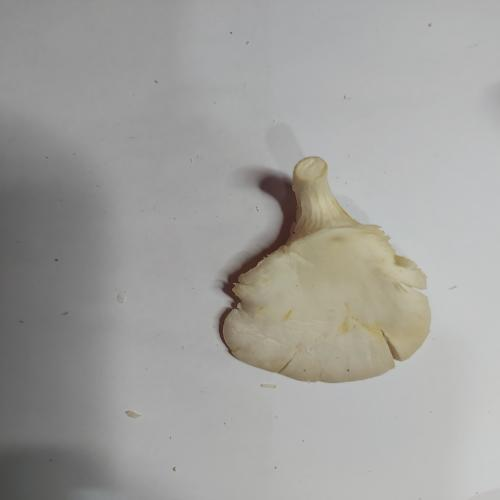Oyster Mushroom: (220, 155, 432, 383)
